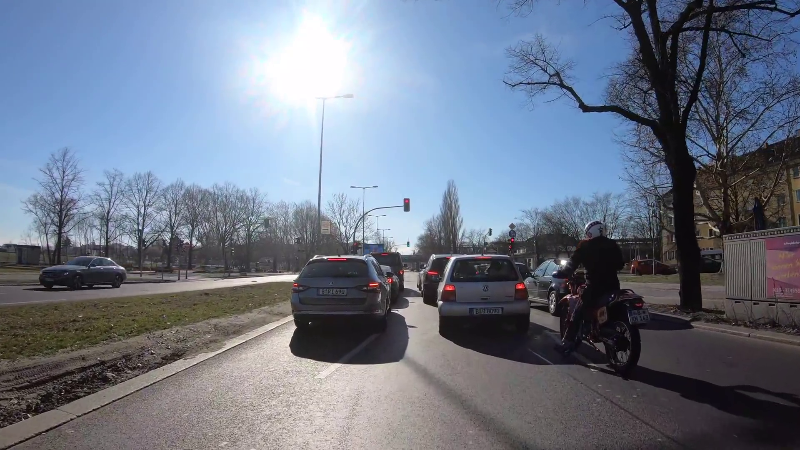Plate: (314, 286, 350, 296), (469, 305, 504, 314)
